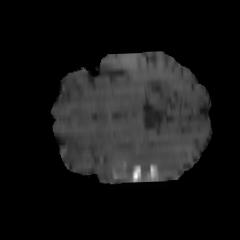glioma: (95, 142, 190, 186)
